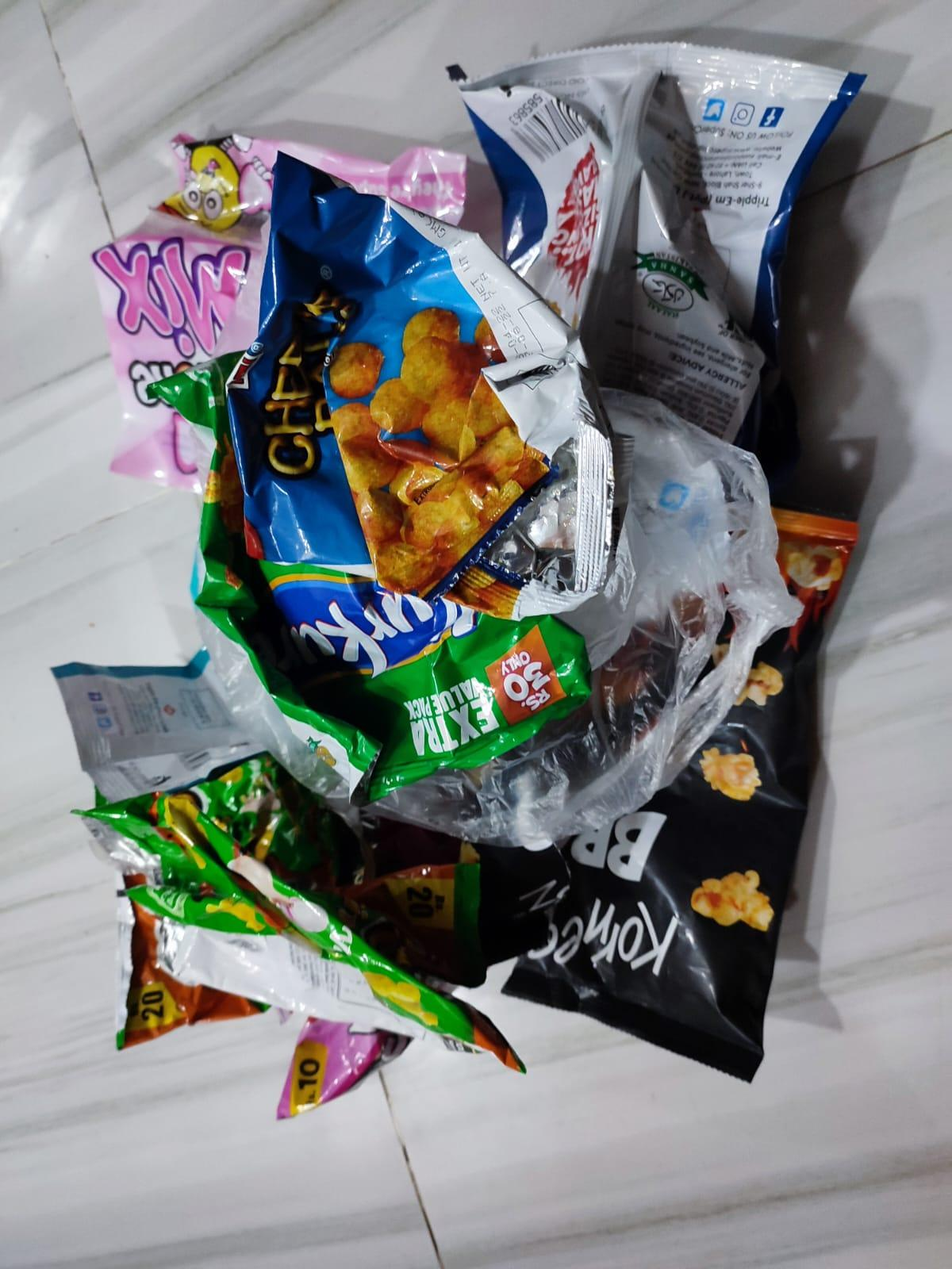garbage: (27, 43, 941, 1107)
